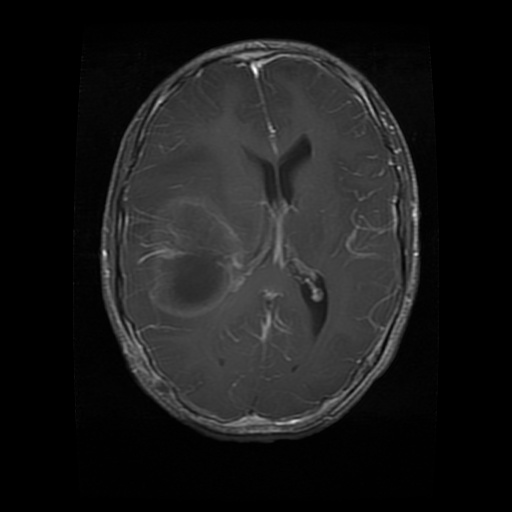glioma: (152, 197, 238, 310)
